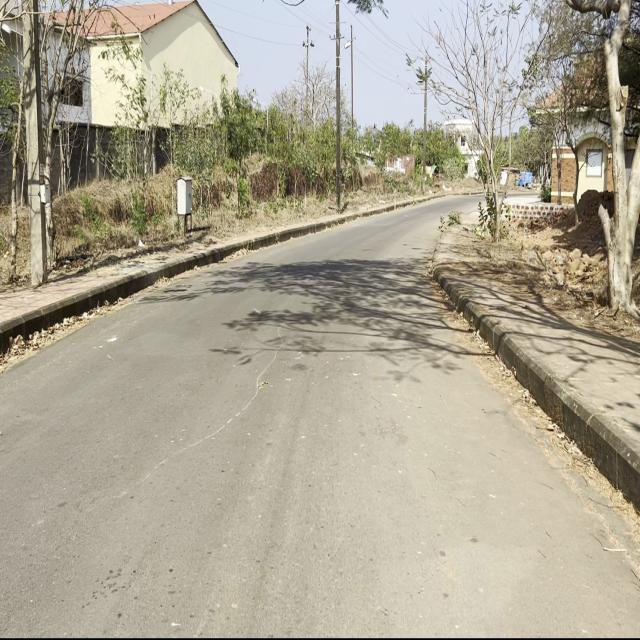Road: (3, 199, 638, 632)
